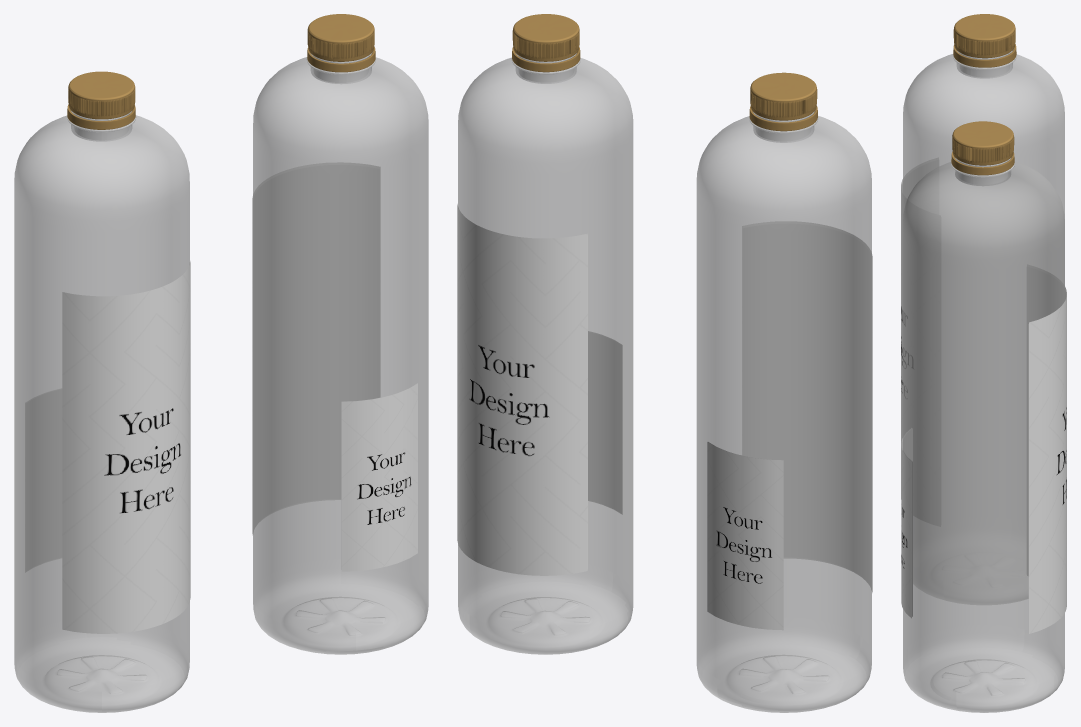
File: Glass_Bottle-A1.glb
3 renders of one model, left to right at view 1: azimuth 30°, elevation 25°; view 2: azimuth 150°, elevation 25°; view 3: azimuth 270°, elevation 25°, orthographic. The views are drawn at different scales.
Parts seen in each view (by area): view 1: Circle017.001, Circle017, Asset_16001.002, Asset_16001.001, Asset_16001.004, Asset_16001.003, Circle020, Circle020.001, Circle019.001, Circle019; view 2: Circle017, Circle017.001, Asset_16001.004, Asset_16001.003, Asset_16001.002, Asset_16001.001, Circle020, Circle020.001, Circle019, Circle019.001; view 3: Circle017.001, Circle017, Asset_16001.004, Asset_16001.002, Asset_16001.001, Circle020.001, Circle020, Circle019.001, Circle019, Asset_16001.003.
Boxes of the visible parts, <box> form: Circle017.001: <box>253,52,428,654</box>; Circle017: <box>14,109,189,712</box>; Asset_16001.002: <box>25,261,190,633</box>; Asset_16001.001: <box>253,165,417,569</box>; Asset_16001.004: <box>252,162,417,571</box>; Asset_16001.003: <box>26,262,189,571</box>; Circle020: <box>68,71,135,119</box>; Circle020.001: <box>307,14,374,61</box>; Circle019.001: <box>307,47,375,72</box>; Circle019: <box>67,104,135,129</box>; Circle017: <box>696,110,871,712</box>; Circle017.001: <box>458,52,633,654</box>; Asset_16001.004: <box>457,204,622,575</box>; Asset_16001.003: <box>708,224,871,589</box>; Asset_16001.002: <box>707,221,872,630</box>; Asset_16001.001: <box>458,207,621,513</box>; Circle020: <box>750,72,817,120</box>; Circle020.001: <box>512,14,579,61</box>; Circle019: <box>749,106,817,131</box>; Circle019.001: <box>512,47,580,72</box>; Circle017.001: <box>903,156,1064,712</box>; Circle017: <box>903,49,1064,604</box>; Asset_16001.004: <box>901,264,1066,633</box>; Asset_16001.002: <box>901,157,940,526</box>; Asset_16001.001: <box>902,267,1066,631</box>; Circle020.001: <box>952,121,1014,165</box>; Circle020: <box>953,14,1015,58</box>; Circle019.001: <box>951,152,1014,175</box>; Circle019: <box>953,44,1016,67</box>; Asset_16001.003: <box>901,160,938,198</box>.
Bounding box in the file's own units: 4.21 × 6.13 × 1.68.
4 materials, 1 textured.
